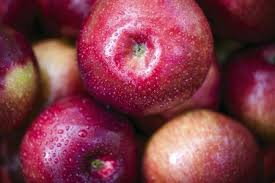apple: (19, 96, 139, 183)
